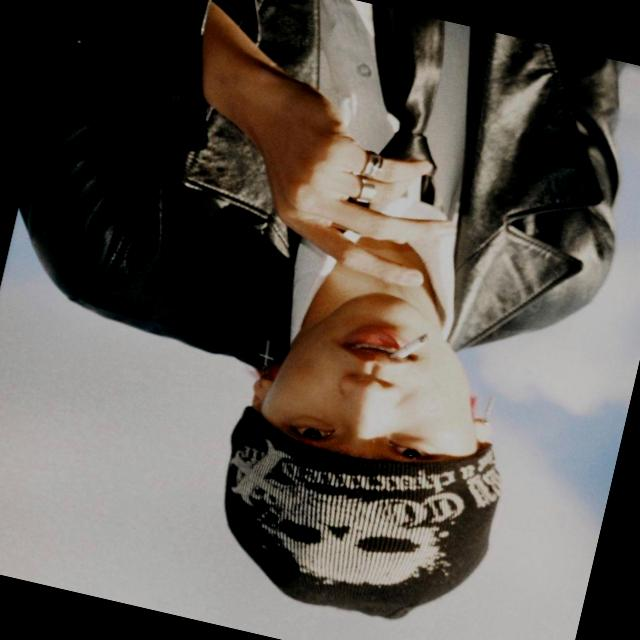smoke: (382, 320, 442, 385)
